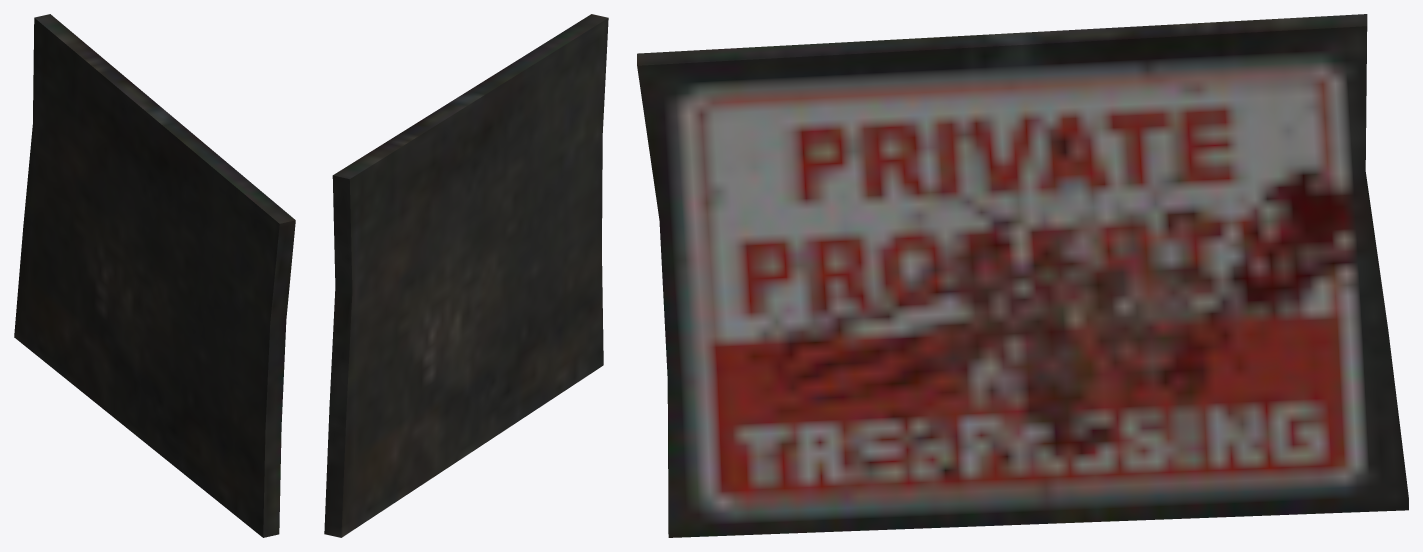
The model's file is PrivatePropertySign.FBX.
3 renders of one model, left to right at view 1: azimuth 30°, elevation 25°; view 2: azimuth 150°, elevation 25°; view 3: azimuth 270°, elevation 25°, orthographic. The views are drawn at different scales.
Parts seen in each view (by area): view 1: PrivatePropertySign; view 2: PrivatePropertySign; view 3: PrivatePropertySign.
Part boxes in pixels (x1,y1,x2,y2): PrivatePropertySign: [14, 14, 295, 537]; PrivatePropertySign: [324, 14, 608, 537]; PrivatePropertySign: [637, 14, 1408, 537].
Bounding box in the file's own units: 1.97 × 29.38 × 39.78.
